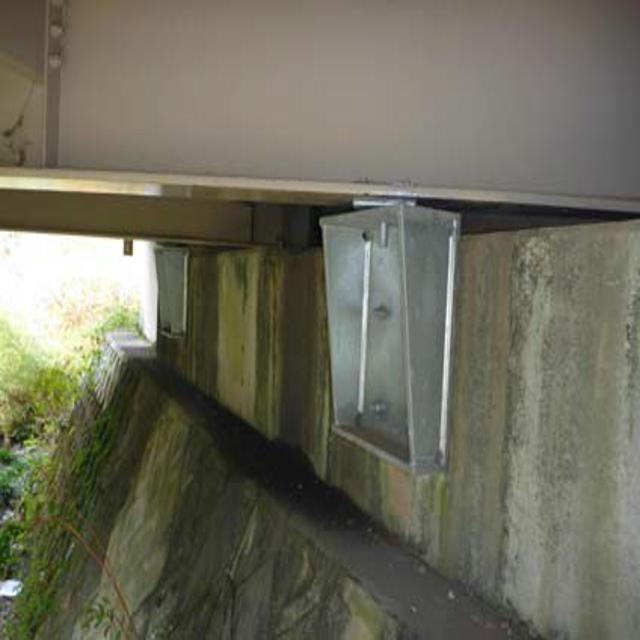leakage: (169, 233, 437, 540)
